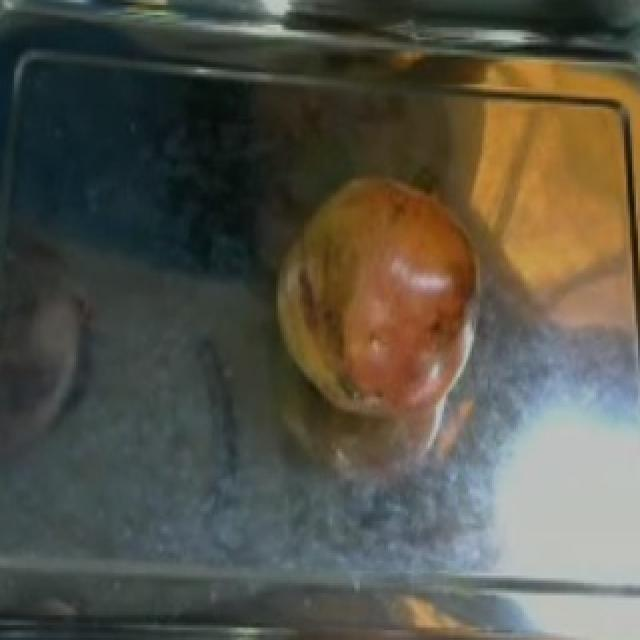fruit: (254, 156, 496, 442)
